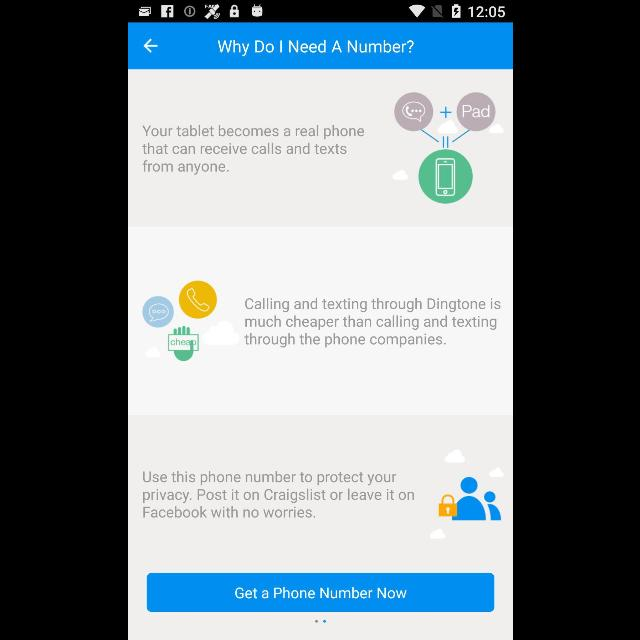icon: (142, 39, 158, 53)
image: (393, 92, 503, 204), (140, 281, 238, 364), (430, 448, 502, 538)
pageindicator: (314, 620, 326, 622)
text: (243, 297, 501, 349), (142, 471, 416, 519), (140, 124, 364, 176), (217, 40, 413, 56)
textbutton: (146, 572, 494, 612)
toolbar: (128, 24, 512, 70)
uppertaskbar: (128, 1, 512, 23)
